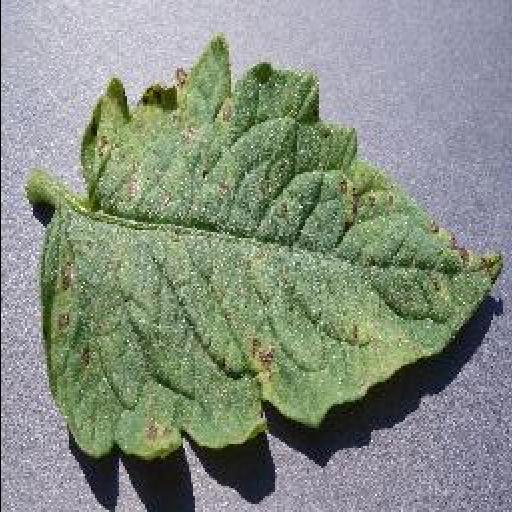disease_tomato: (40, 40, 506, 462)
